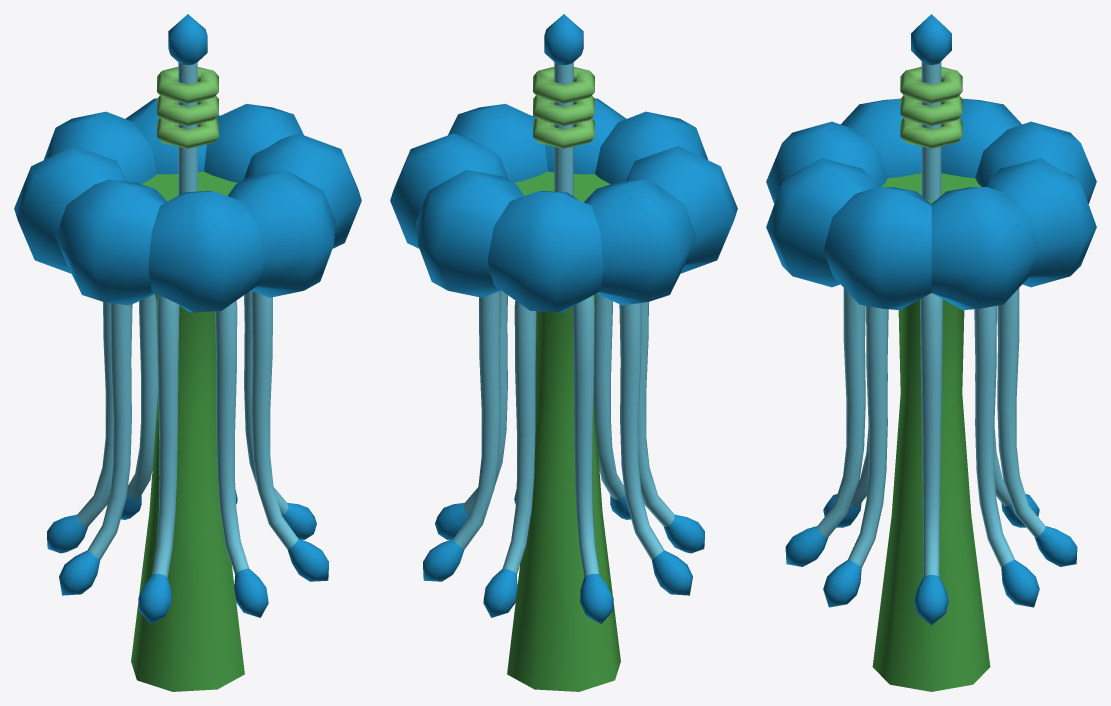
File: Plant_9_green.fbx
The picture shows the model from 3 angles, left to right: view 1: azimuth 30°, elevation 25°; view 2: azimuth 150°, elevation 25°; view 3: azimuth 270°, elevation 25°; orthographic projection.
Visible parts, largest first — view 1: Plant_9_green; view 2: Plant_9_green; view 3: Plant_9_green.
Boxes of the visible parts, left/top/right/bottom form: Plant_9_green: left=14, top=14, right=361, bottom=691; Plant_9_green: left=390, top=14, right=737, bottom=691; Plant_9_green: left=766, top=14, right=1096, bottom=691.
Bounding box in the file's own units: 1.82 × 3.96 × 1.82.
